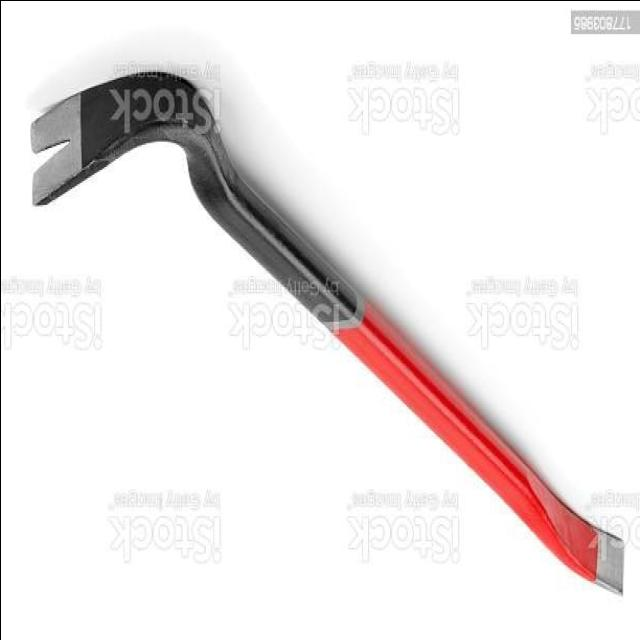Linggis: (29, 68, 624, 601)
